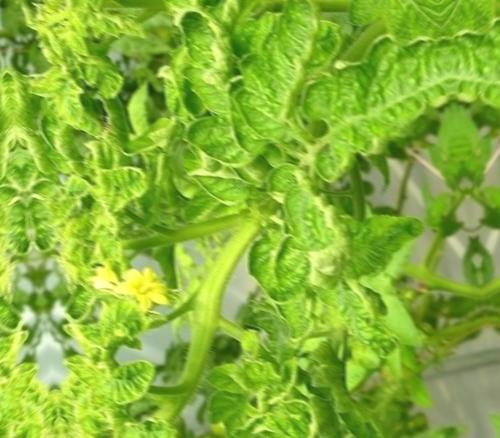Tomato leaf yellow virus: (290, 35, 461, 175), (232, 153, 361, 336), (161, 0, 280, 175), (74, 128, 185, 287), (222, 0, 348, 136), (326, 188, 437, 290), (60, 290, 159, 378), (38, 46, 115, 147), (191, 148, 255, 219), (104, 348, 173, 411), (244, 391, 326, 438), (111, 407, 191, 438)
